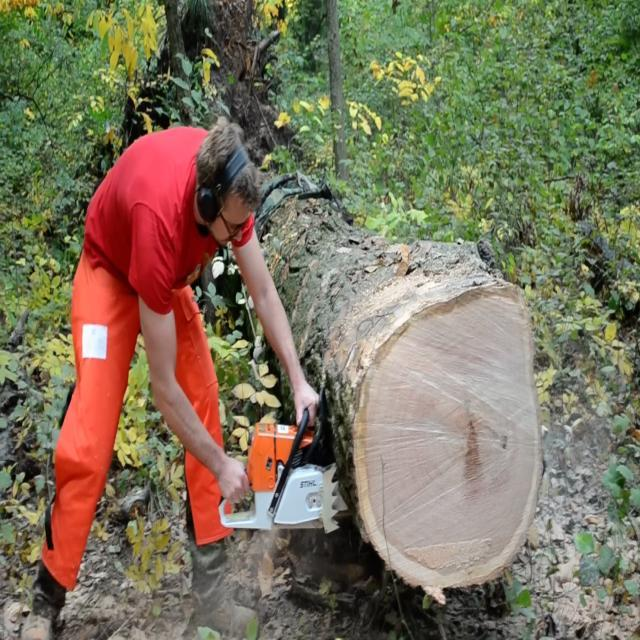Chainsaw: (204, 400, 358, 548)
